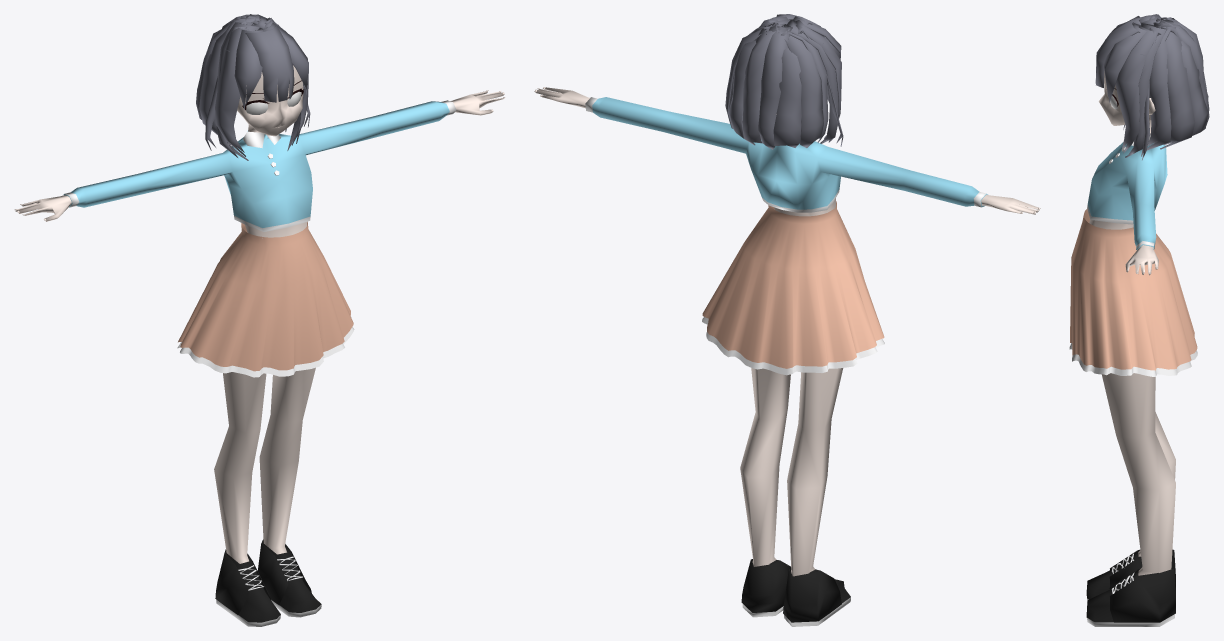
File: Child.fbx
3 views of the same model, side by side, from view 1: azimuth 30°, elevation 25°; view 2: azimuth 150°, elevation 25°; view 3: azimuth 270°, elevation 25° (orthographic). The views are drawn at different scales.
Parts seen in each view (by area): view 1: Skirt, Body, Upper, Hair.front, Shoes; view 2: Skirt, Body, Hair.front, Upper, Shoes; view 3: Skirt, Hair.front, Body, Upper, Shoes.
Boxes of the visible parts, x1,y1,x2,y2 form: Skirt: (177, 221, 354, 377); Body: (14, 65, 505, 563); Upper: (63, 100, 456, 231); Hair.front: (196, 14, 310, 160); Shoes: (215, 539, 321, 626); Skirt: (702, 201, 884, 375); Body: (534, 87, 1040, 576); Hair.front: (725, 14, 843, 149); Upper: (585, 97, 987, 212); Shoes: (741, 559, 850, 626); Skirt: (1069, 209, 1197, 376); Hair.front: (1095, 14, 1209, 160); Body: (1089, 71, 1175, 575); Upper: (1087, 134, 1167, 249); Shoes: (1086, 549, 1175, 626).
Size of the model in its own units: 1.22 by 1.37 by 0.2972.
